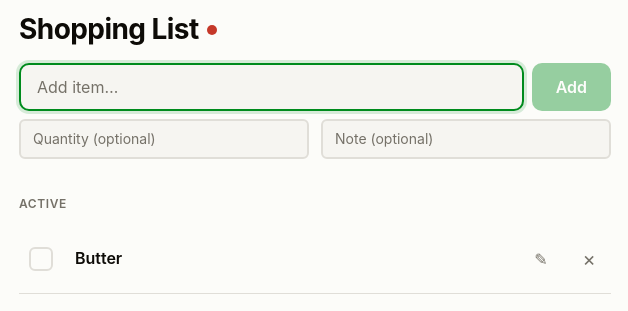
Task 5 — Check and delete items › AC7,AC8: deleting an item removes it from the list
The image size is (628, 311).
Expected: the text "Butter" is shown, [75,248,122,268]
Step 1. Click the button named "delete butter" → point(589, 259), box [567,237,611,281]
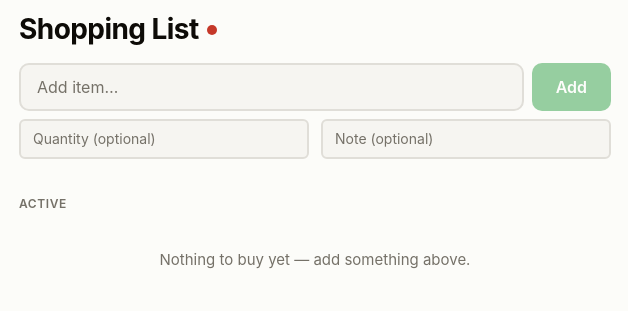
Now the text "Butter" is gone
